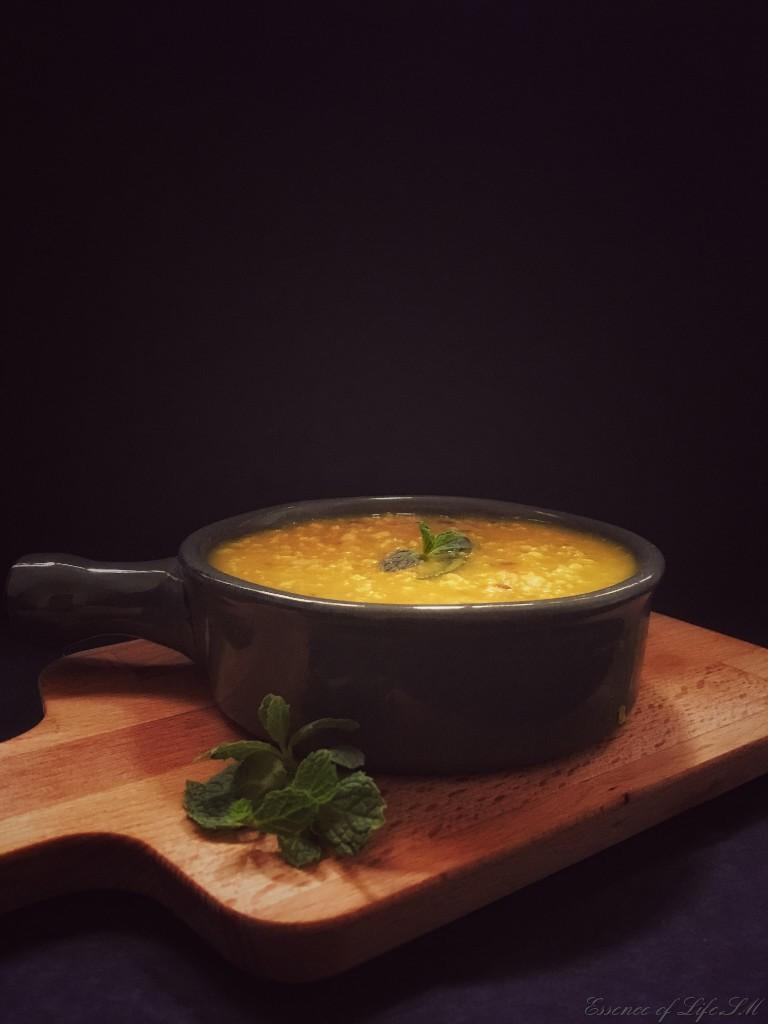Dal: (219, 514, 638, 603), (259, 608, 259, 610)
